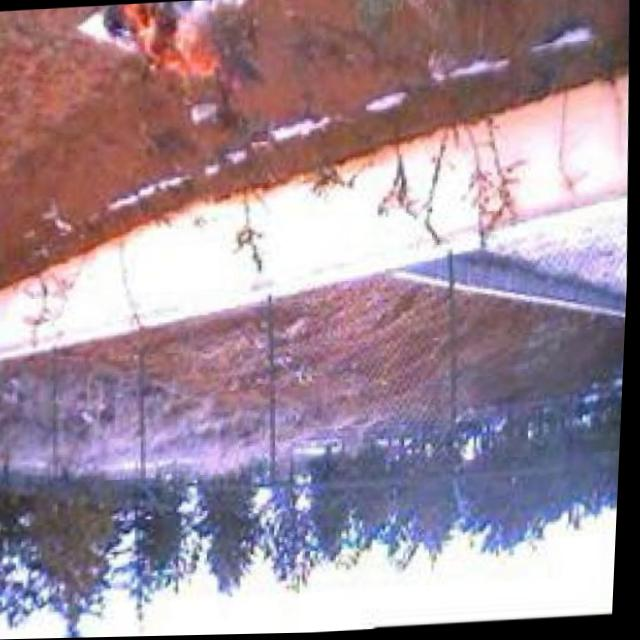Fire: (106, 0, 247, 99)
